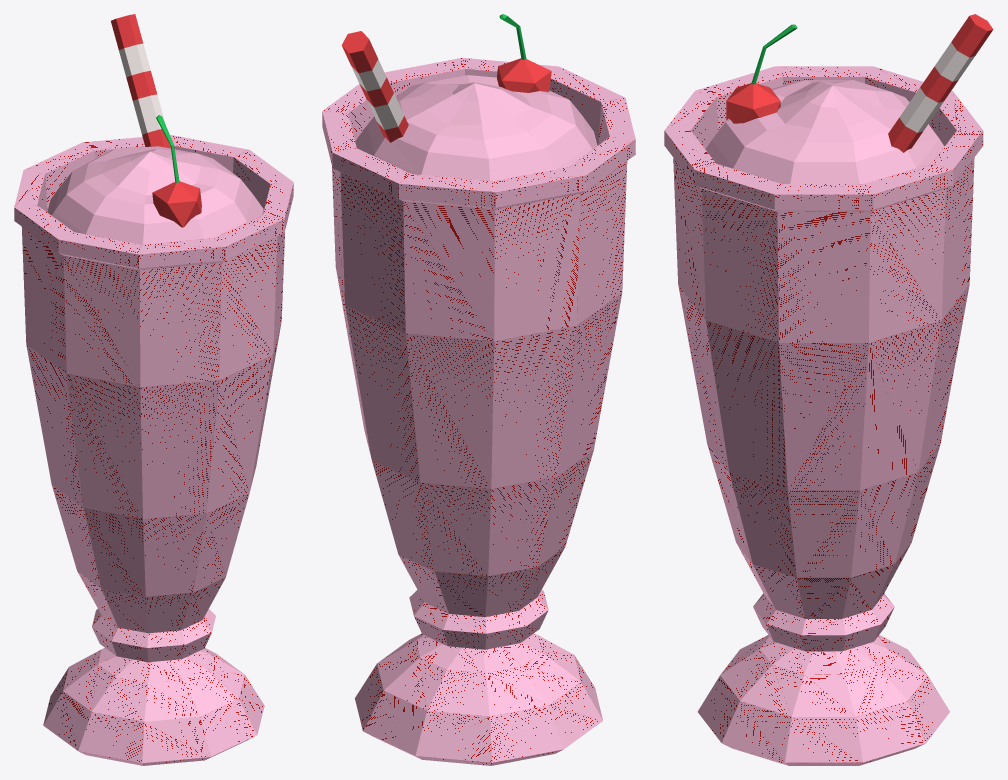
File: Milkshake.glb
3 renders of one model, left to right at view 1: azimuth 30°, elevation 25°; view 2: azimuth 150°, elevation 25°; view 3: azimuth 270°, elevation 25°, orthographic. The views are drawn at different scales.
Visible parts, largest first — view 1: Glass; view 2: Glass; view 3: Glass.
Part boxes in pixels (left/top/right/bottom): Glass: left=14, top=14, right=293, bottom=765; Glass: left=322, top=14, right=635, bottom=765; Glass: left=664, top=14, right=993, bottom=765.
Bounding box in the file's own units: 0.7046 × 1.86 × 0.7645.
1 material, 1 textured.
